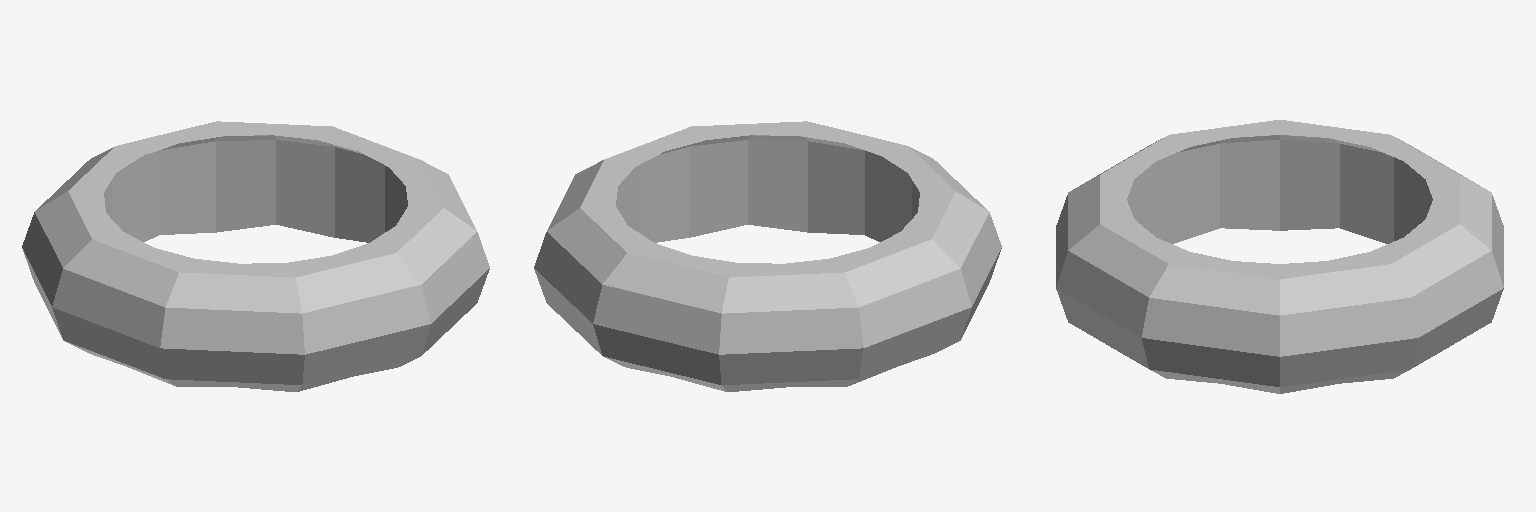
File: shield_3_corrected_uvs.obj
3 renders of one model, left to right at view 1: azimuth 30°, elevation 25°; view 2: azimuth 150°, elevation 25°; view 3: azimuth 270°, elevation 25°, orthographic.
Visible parts, largest first — view 1: pTorus2.001; view 2: pTorus2.001; view 3: pTorus2.001.
Boxes of the visible parts, x1,y1,x2,y2 form: pTorus2.001: [22, 121, 489, 391]; pTorus2.001: [534, 121, 1001, 391]; pTorus2.001: [1056, 120, 1503, 393].
Size of the model in its own units: 2.44 by 0.6455 by 2.32.